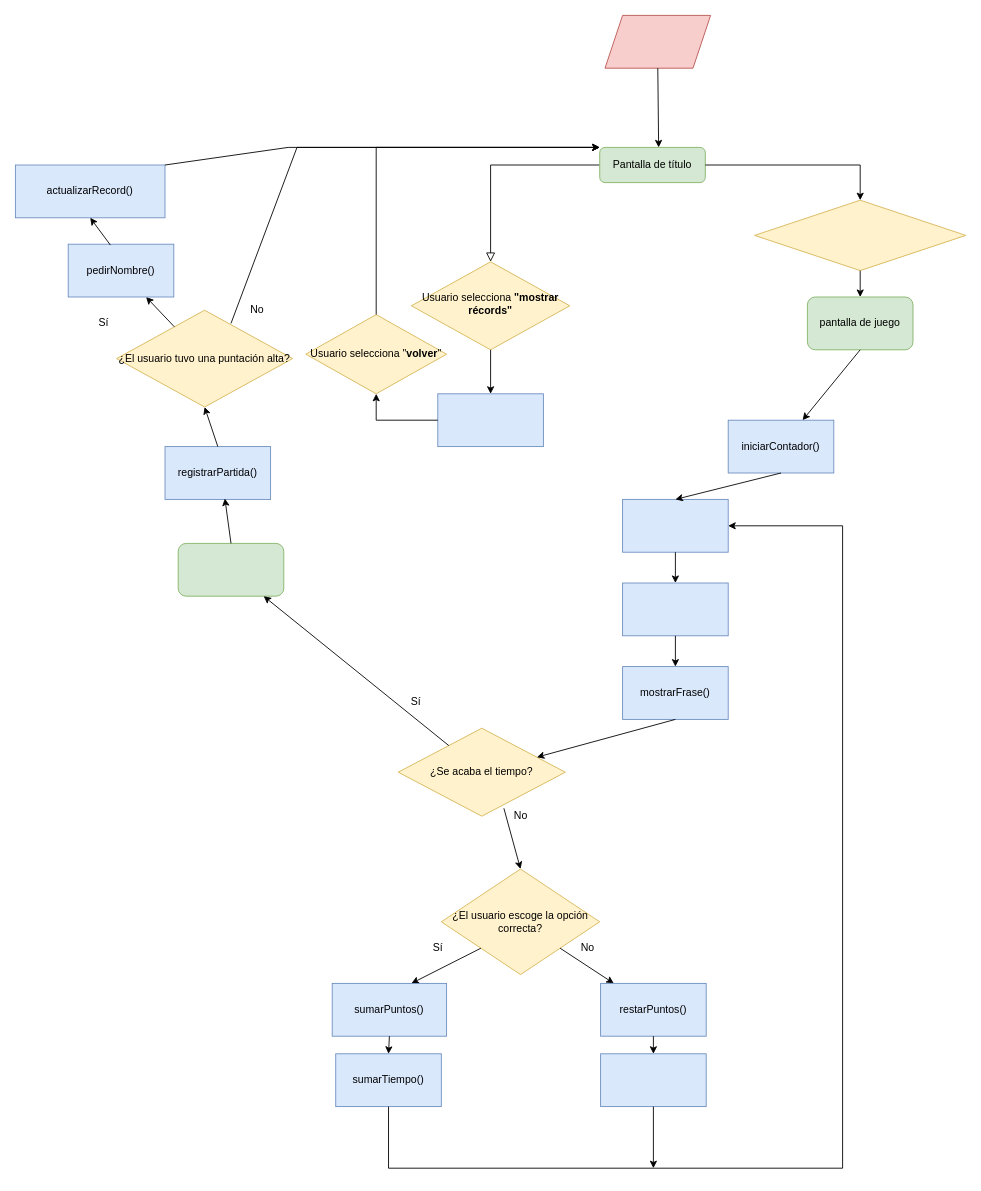
Image size: 981x1191. Some labels were removed from this diagram. The shapes that lost their labels are listed below. From the top down, each one's centre as x and y in pixels, then its label:
point (657, 41): INICIO
point (860, 235): Usuario selecciona "Comenzar"
point (490, 420): mostrarRecords()
point (675, 525): buscarFrase()
point (230, 569): game over
point (675, 609): traducirFrase()
point (653, 1080): restarTiempo()
